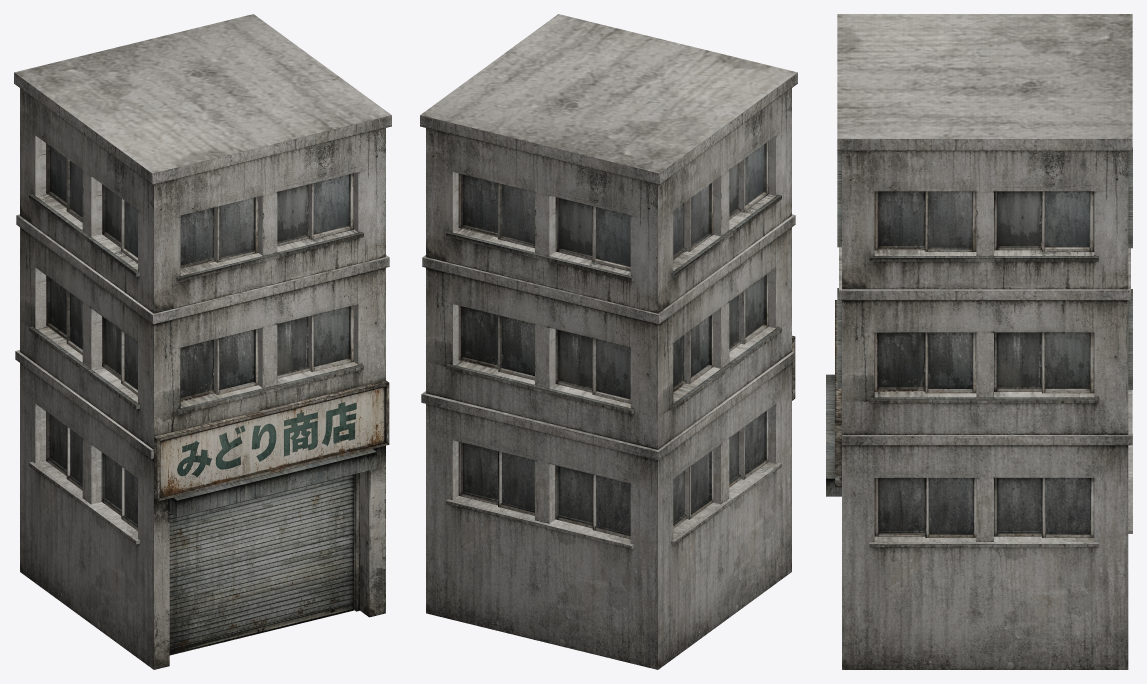
Rendered from japanese store.fbx.
3 renders of one model, left to right at view 1: azimuth 30°, elevation 25°; view 2: azimuth 150°, elevation 25°; view 3: azimuth 270°, elevation 25°, orthographic. The views are drawn at different scales.
Parts seen in each view (by area): view 1: model; view 2: model; view 3: model.
Boxes of the visible parts, x1=… form: model: x1=14, y1=14, x2=391, y2=669; model: x1=420, y1=14, x2=797, y2=669; model: x1=826, y1=14, x2=1132, y2=669.
Bounding box in the file's own units: 404 × 804 × 419.
